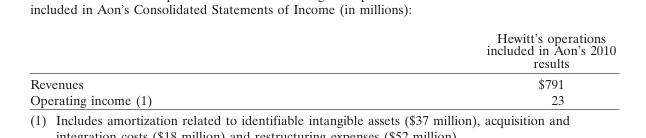table: (29, 29, 615, 106)
table column: (318, 29, 615, 106), (29, 29, 318, 106)
table column header: (29, 29, 615, 73)
table row: (29, 29, 615, 73), (29, 73, 615, 91), (29, 91, 615, 106)
